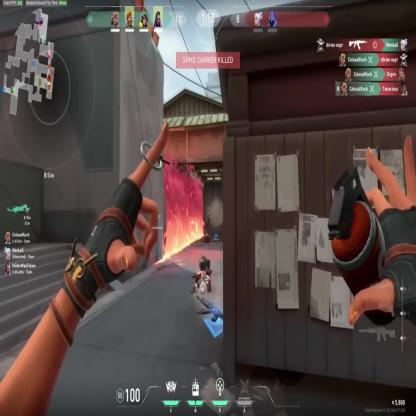enemy: (206, 209, 210, 230)
enemy_head: (208, 211, 210, 215)
